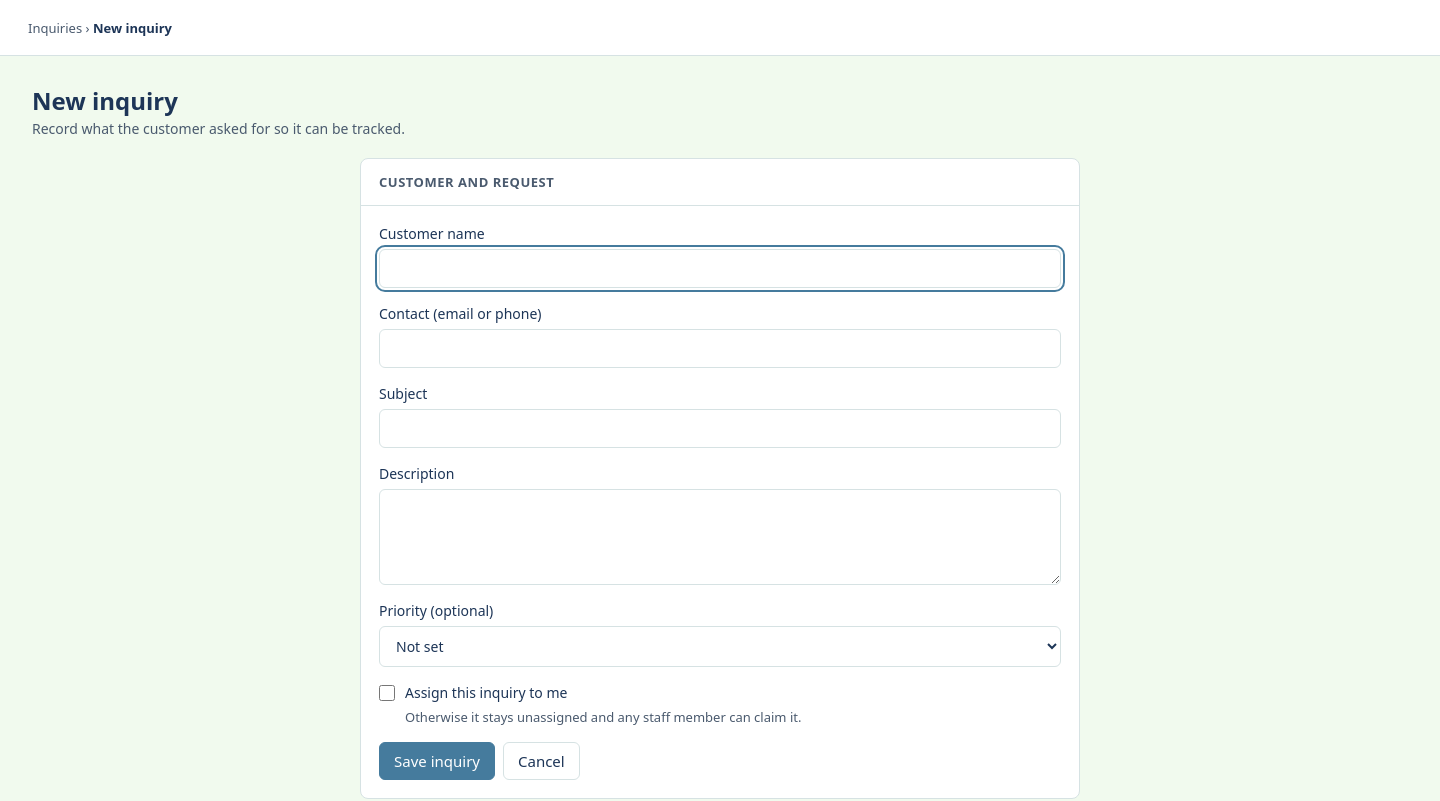
Test: NewInquiryPage › shows field errors and sends nothing when the form is empty
Click the button "Save inquiry": click(437, 761) x1=379 y1=742 x2=495 y2=780
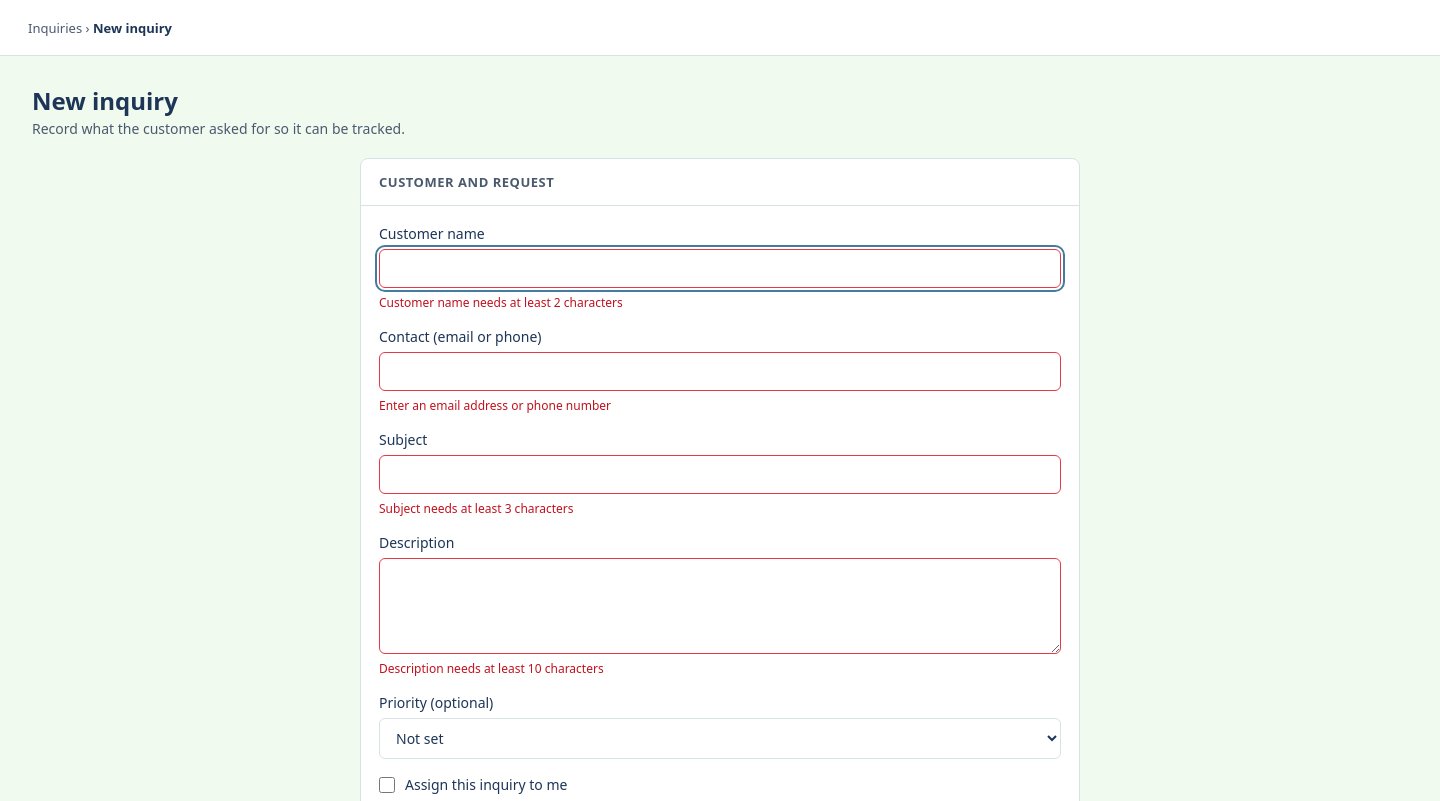
Now the text "Customer name needs at least 2 characters" is shown, box x1=379 y1=294 x2=623 y2=311
Now the text "Enter an email address or phone number" is shown, box x1=379 y1=397 x2=611 y2=414
Now the text "Subject needs at least 3 characters" is shown, box x1=379 y1=500 x2=574 y2=517
